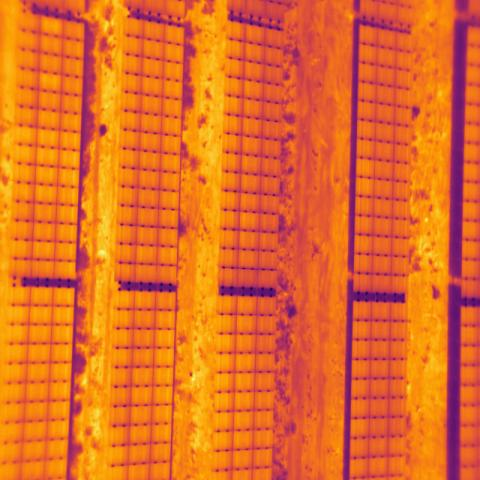fault: (41, 17, 63, 37)
